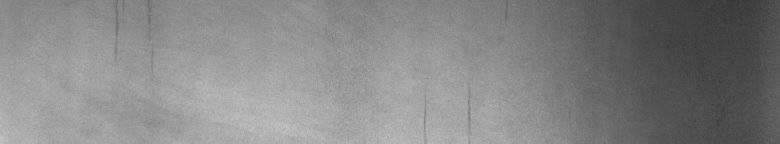ka: (424, 12, 507, 128)
